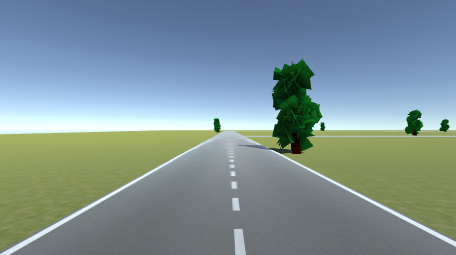tree: (271, 57, 323, 158), (405, 109, 424, 138), (439, 118, 450, 133), (213, 118, 221, 133), (320, 122, 325, 133)
